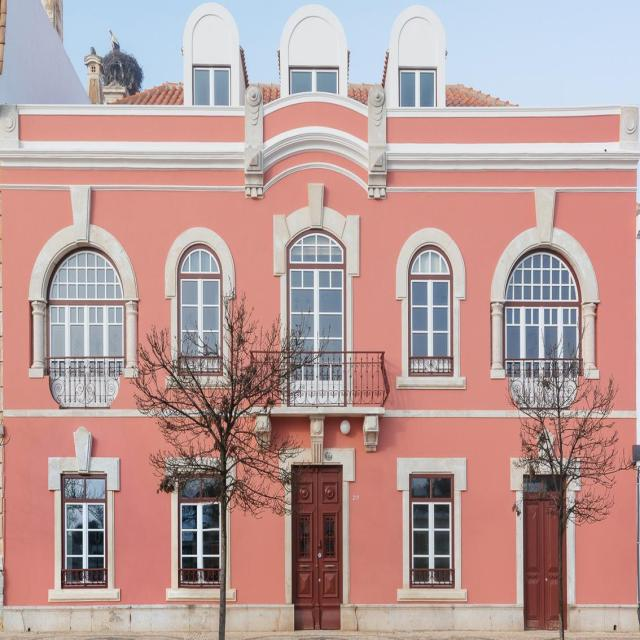door: (294, 461, 346, 630), (526, 477, 569, 630)
railing: (283, 349, 389, 406)
window: (502, 246, 583, 370), (48, 247, 124, 373), (290, 230, 343, 377), (64, 475, 110, 584), (408, 246, 451, 361), (180, 469, 223, 584), (181, 239, 220, 353), (412, 475, 452, 582), (194, 64, 231, 106), (287, 68, 339, 94), (399, 71, 437, 106)
